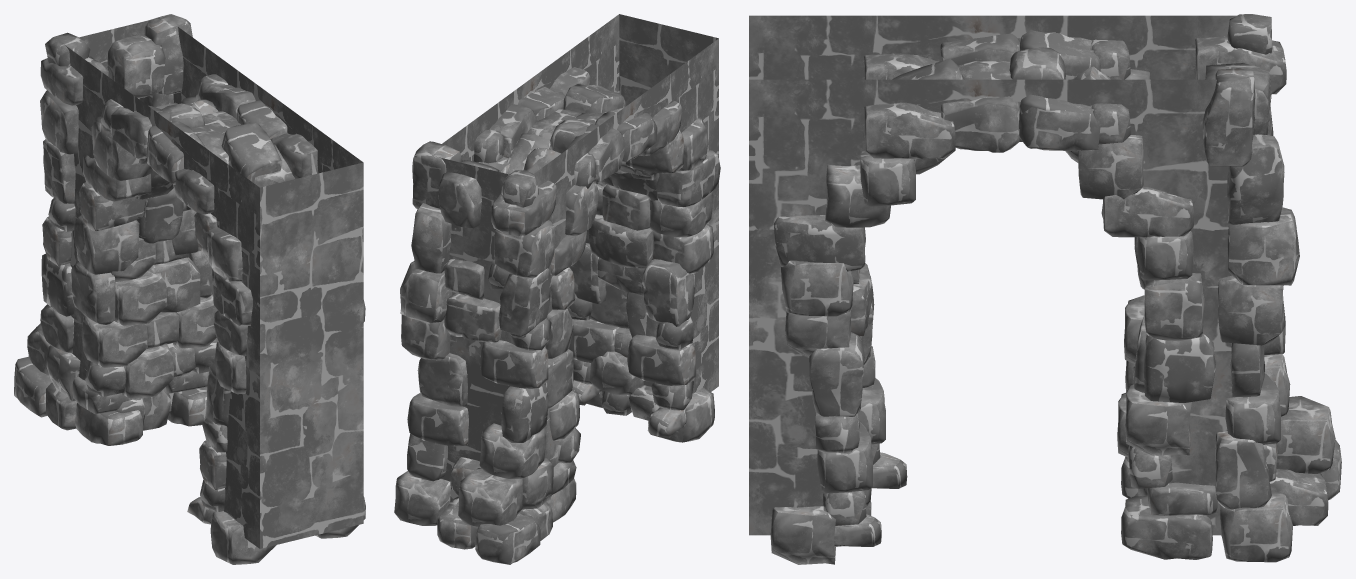
The model's file is Wall_Big_Arch_SidePiece_Right.fbx.
3 renders of one model, left to right at view 1: azimuth 30°, elevation 25°; view 2: azimuth 150°, elevation 25°; view 3: azimuth 270°, elevation 25°, orthographic. The views are drawn at different scales.
Parts seen in each view (by area): view 1: Rocks_03.001, Wall_Arch_Big_02.001; view 2: Rocks_03.001, Wall_Arch_Big_02.001; view 3: Rocks_03.001, Wall_Arch_Big_02.001.
Part boxes in pixels (<box>): Rocks_03.001: <box>14,14,365,564</box>; Wall_Arch_Big_02.001: <box>64,18,363,548</box>; Rocks_03.001: <box>394,67,720,564</box>; Wall_Arch_Big_02.001: <box>435,14,718,501</box>; Rocks_03.001: <box>770,14,1341,564</box>; Wall_Arch_Big_02.001: <box>749,15,1247,535</box>.
Bounding box in the file's own units: 2.16 × 5.46 × 5.89.
